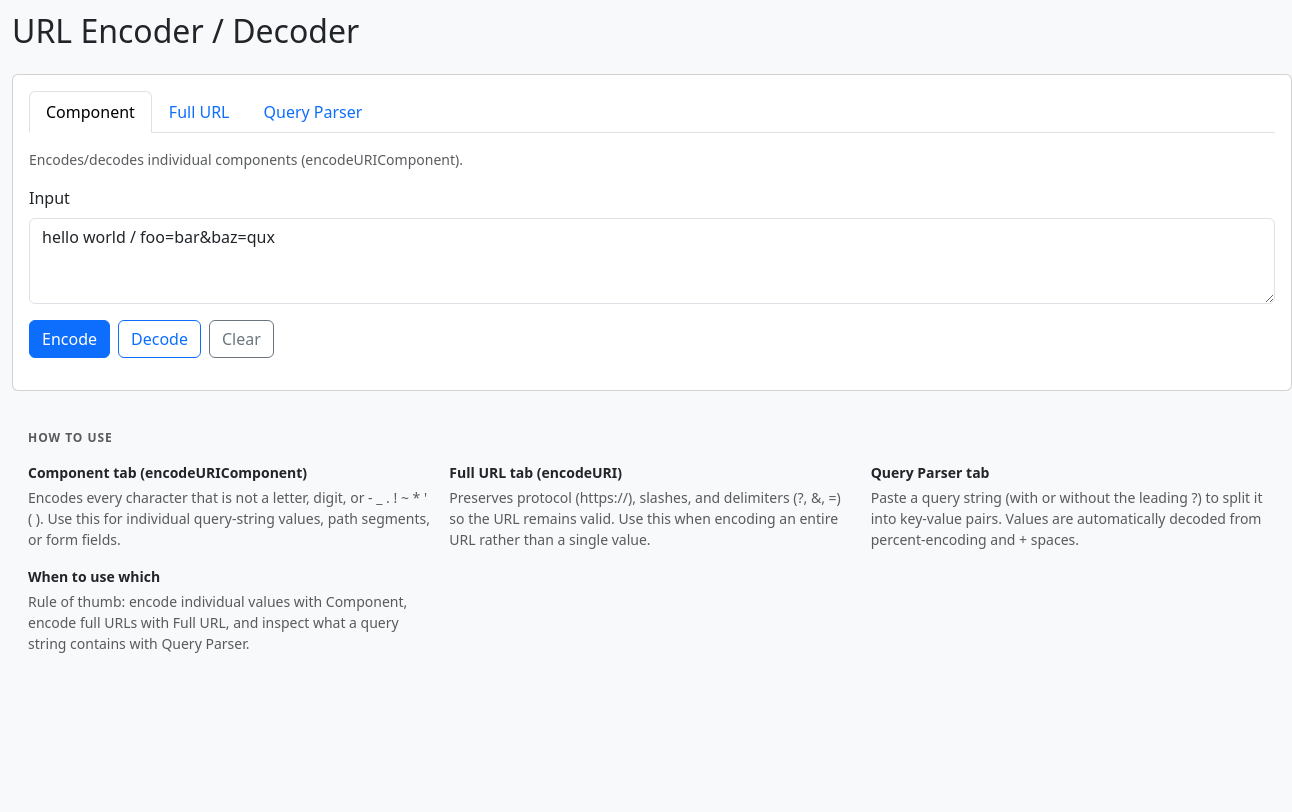
Scenario: UrlTool › Component tab › shows error for invalid encoded string
Replace the text in the text box named "URL component input" with "%GG" at (652, 261), box [29, 218, 1275, 304]
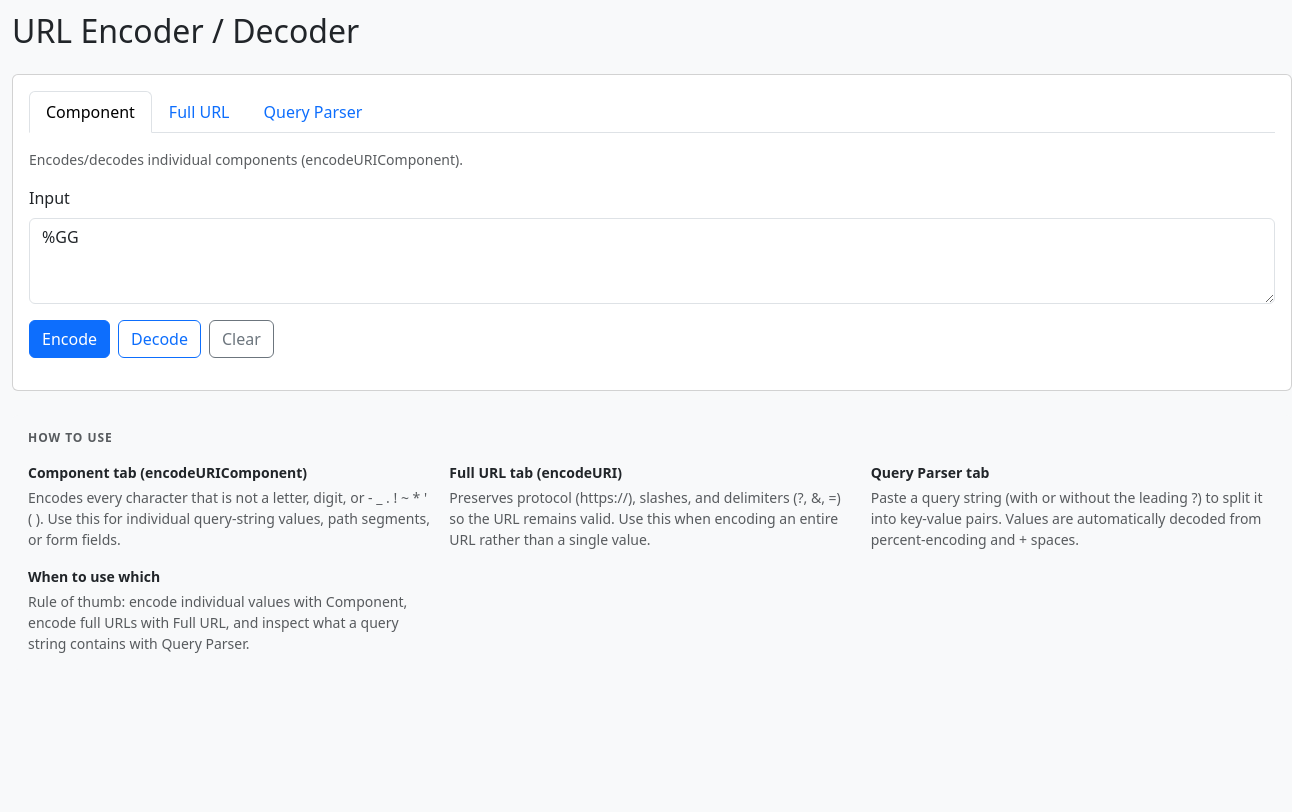
Click the button "Decode" at (159, 339), box [118, 320, 201, 358]
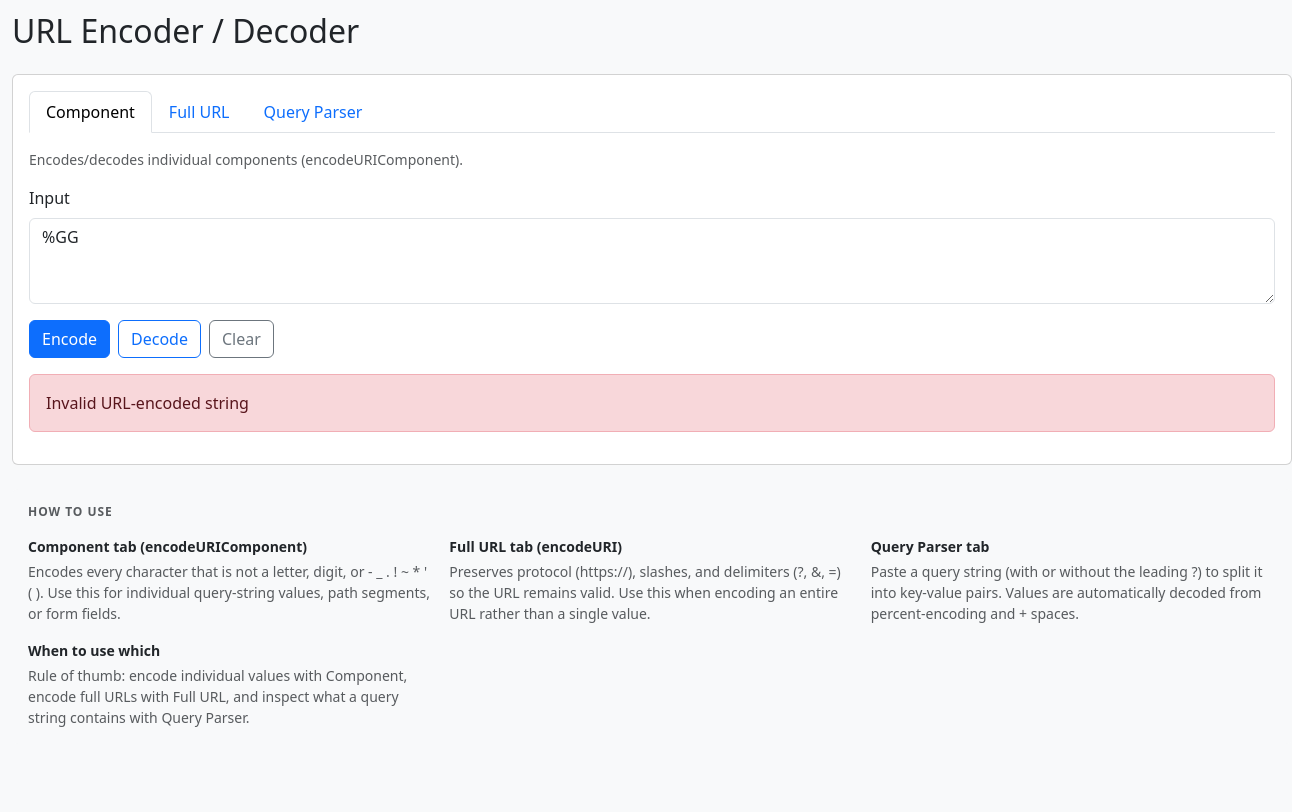
Now the message "Invalid URL-encoded string" is shown, box [29, 374, 1275, 432]
